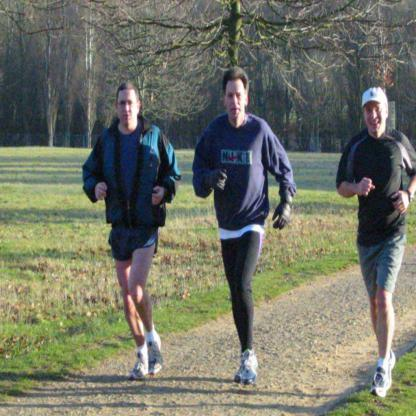face: (364, 100, 388, 138), (227, 80, 246, 120), (118, 90, 138, 125)
